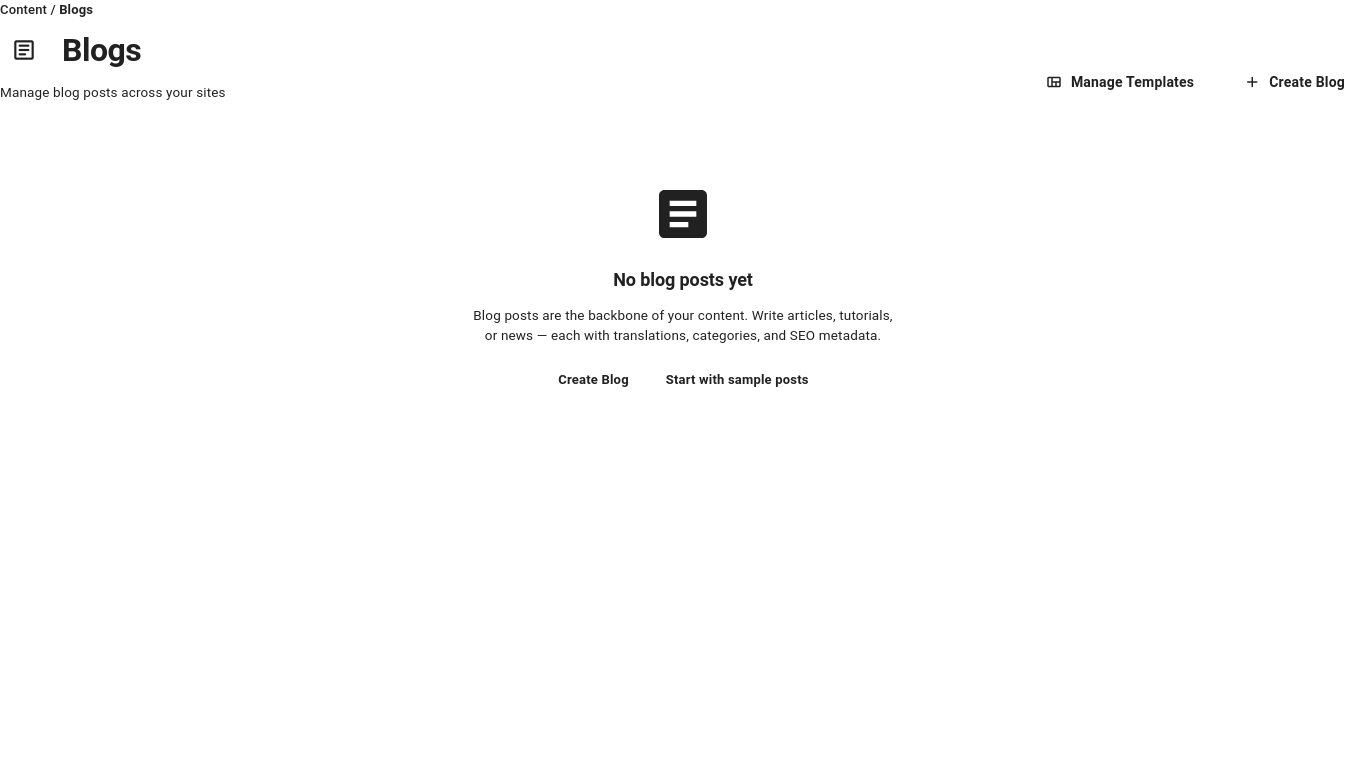
BlogsPage › opens create dialog on add click
The width and height of the screenshot is (1366, 768).
Click the button "Create Blog" in the row of "Manage blog posts across your sites".
click(1294, 82)  # box [1222,62,1365,102]
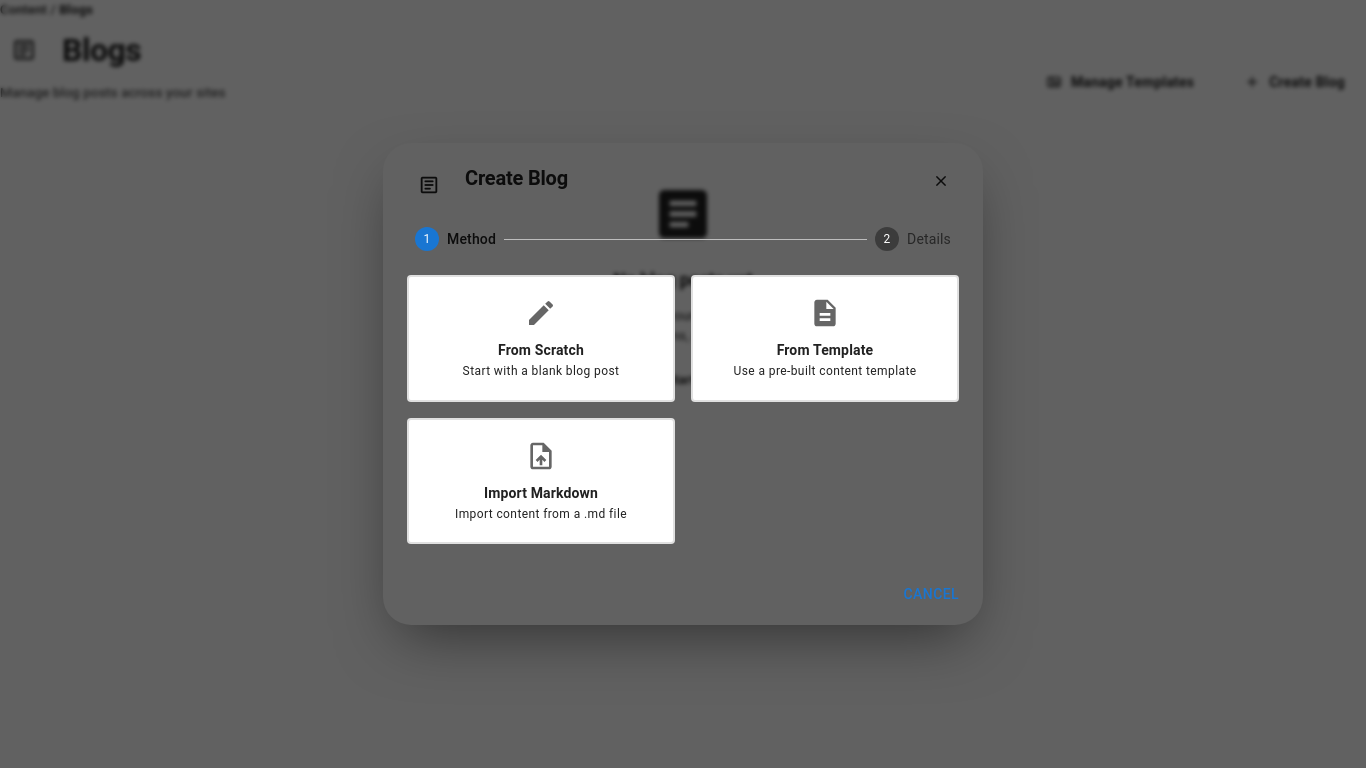
Expected: the dialog is shown, [383,143,983,625]
